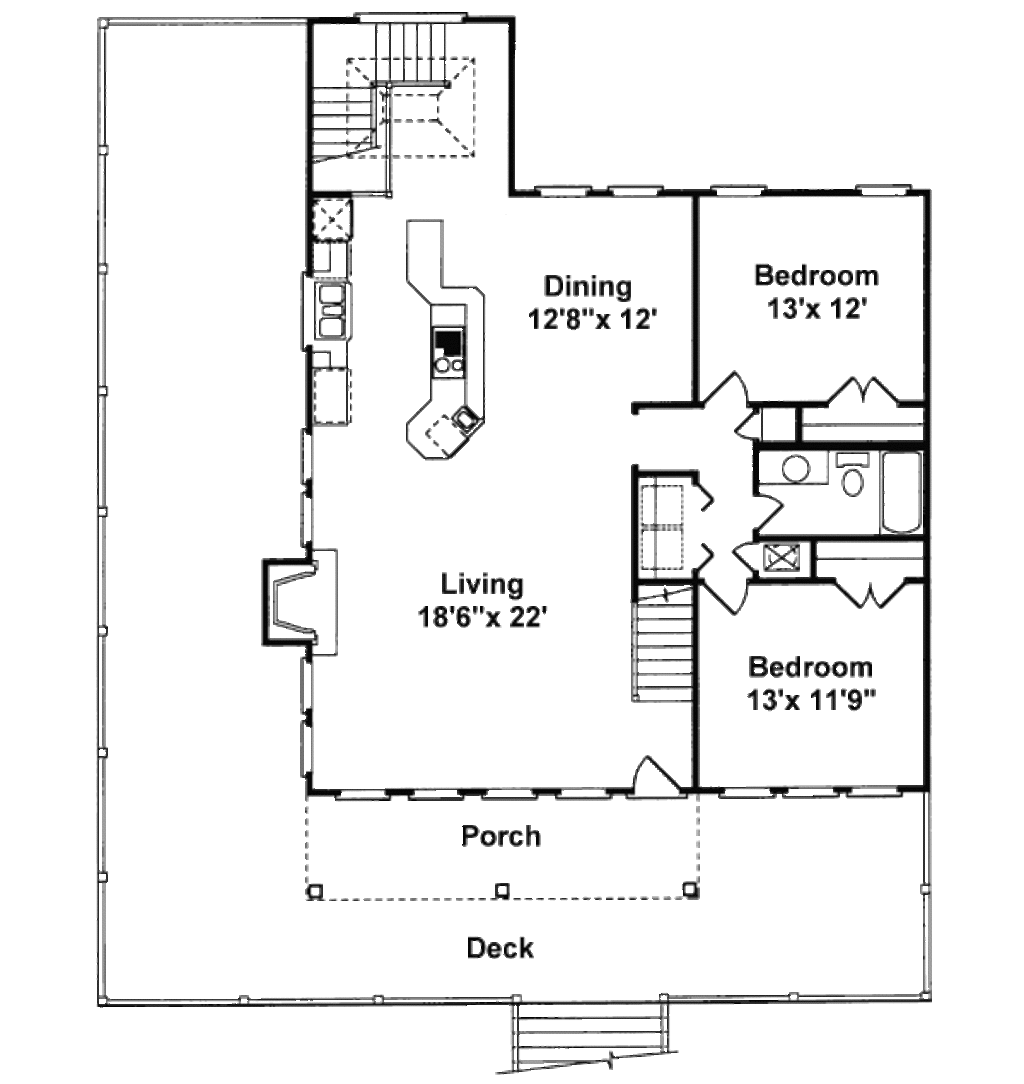door: (629, 756, 688, 797), (837, 581, 912, 612), (829, 378, 899, 404), (702, 576, 748, 615), (707, 373, 753, 406), (753, 494, 783, 530), (735, 406, 760, 445), (737, 538, 755, 573)
large_sink: (837, 445, 870, 501)
small_sink: (760, 448, 829, 489)
stairs: (311, 22, 443, 194), (524, 1002, 673, 1083), (634, 586, 688, 704)
tub: (888, 447, 925, 535)
window: (858, 178, 920, 192), (299, 655, 309, 719), (614, 188, 665, 197), (301, 719, 309, 773), (356, 15, 458, 19), (727, 788, 781, 794), (538, 189, 591, 194), (712, 189, 765, 194), (553, 792, 611, 796), (409, 791, 463, 794), (486, 792, 540, 794), (784, 789, 835, 791), (850, 789, 896, 791), (306, 430, 307, 488), (335, 791, 391, 792), (306, 494, 307, 545)
